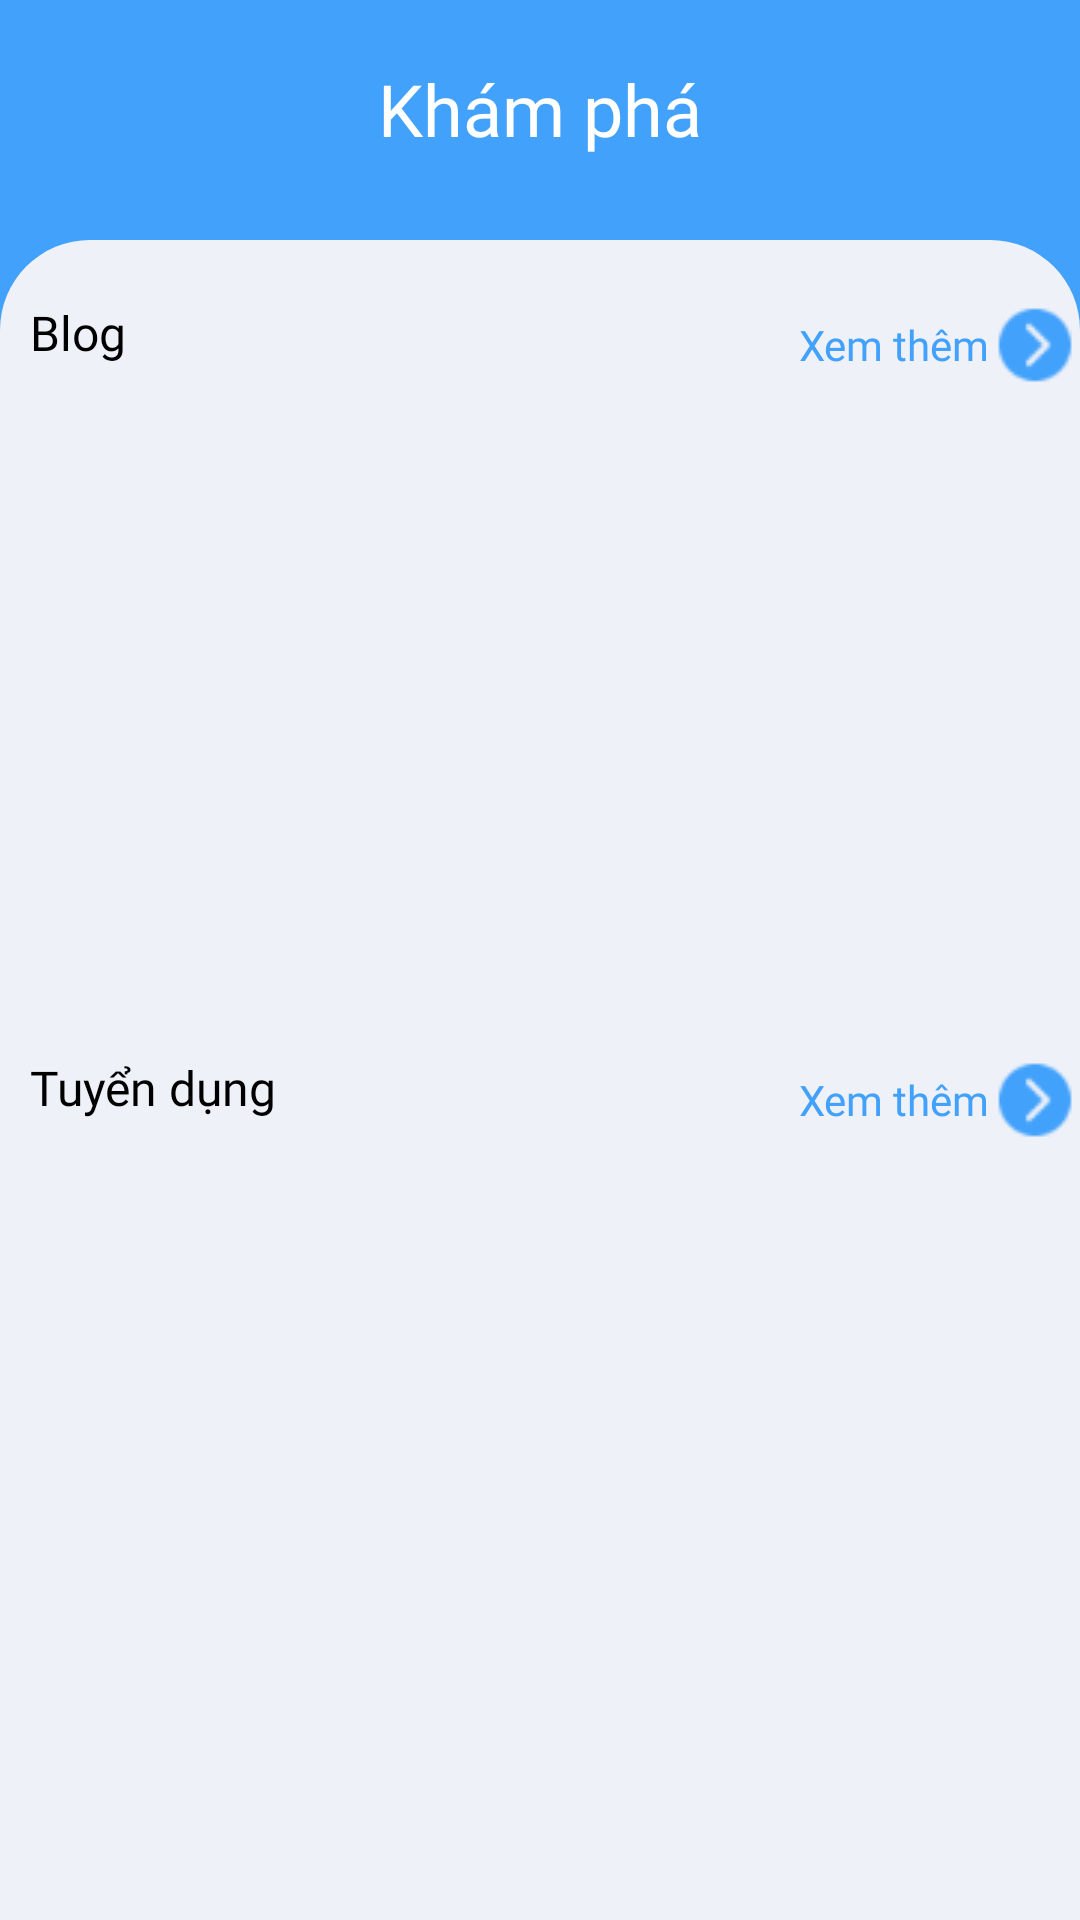

Screen size 1080 x 1920. Icon name, then its box in pixels as (x1, y1, x2, y2):
knowleadge next page: (998, 308, 1072, 382), (998, 1063, 1072, 1137)
